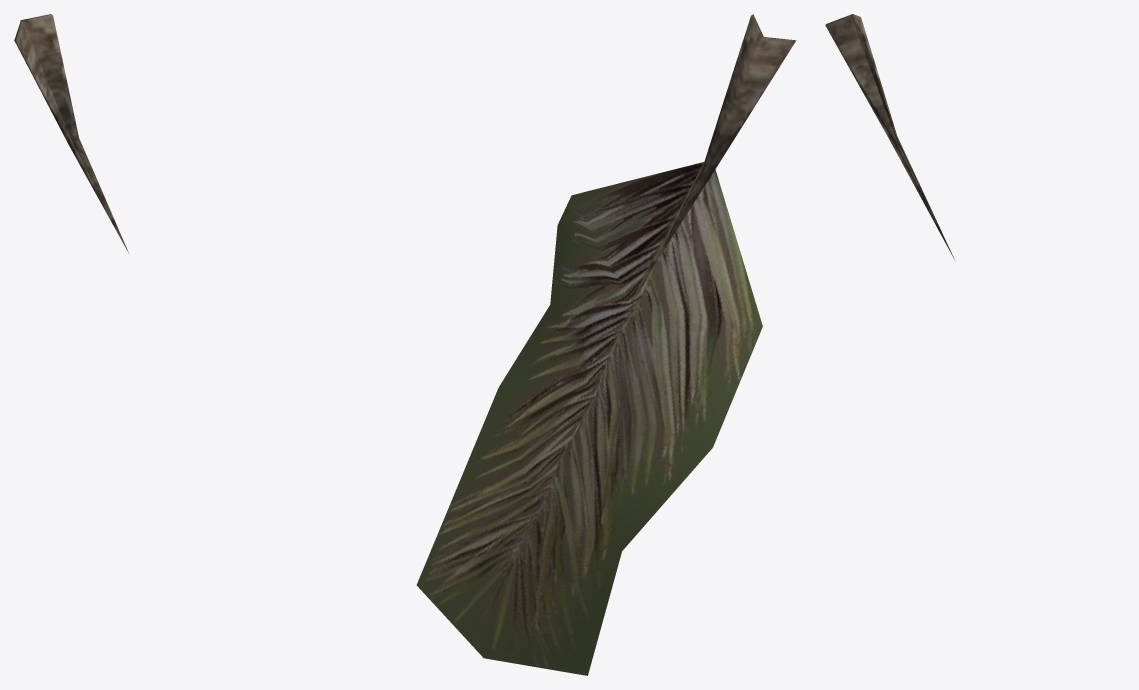
File: tree_desertpalmfrond.glb
3 views of the same model, side by side, from view 1: azimuth 30°, elevation 25°; view 2: azimuth 150°, elevation 25°; view 3: azimuth 330°, elevation 25° (orthographic). The views are drawn at different scales.
Bounding box in the file's own units: 57.97 × 105 × 14.67.
2 materials, 2 textured.
